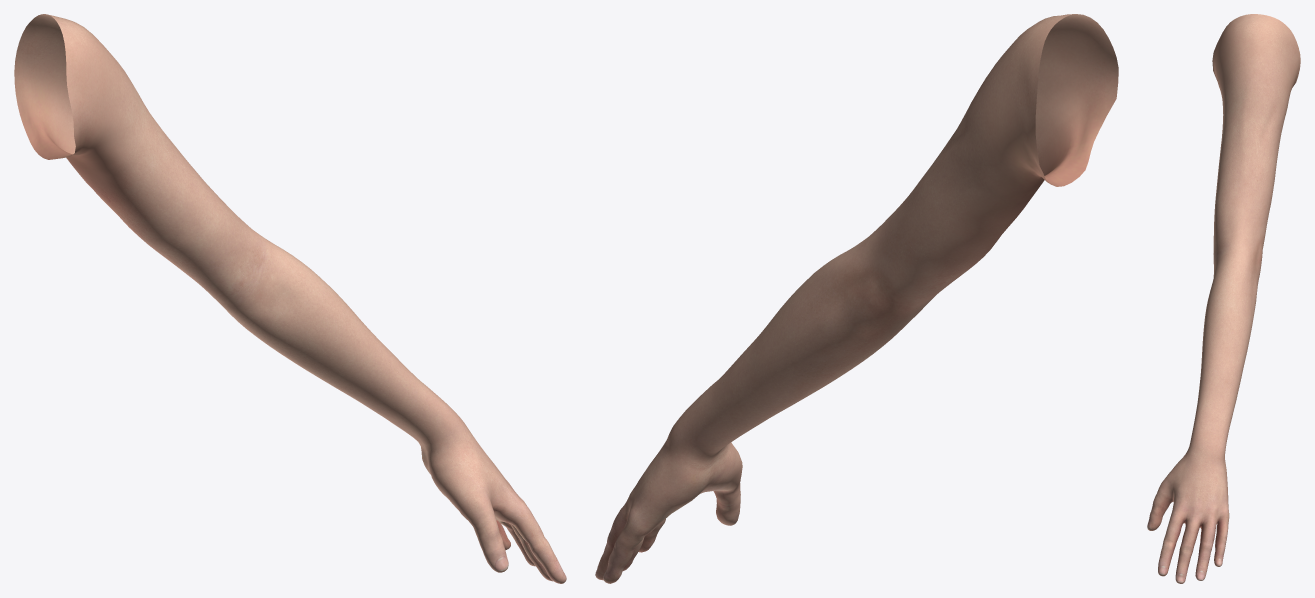
File: BrazoIzquierdo.obj
The picture shows the model from 3 angles, left to right: view 1: azimuth 30°, elevation 25°; view 2: azimuth 150°, elevation 25°; view 3: azimuth 270°, elevation 25°; orthographic projection. The views are drawn at different scales.
Visible parts, largest first — view 1: BrazoIzquierdo_body.003; view 2: BrazoIzquierdo_body.003; view 3: BrazoIzquierdo_body.003.
Boxes of the visible parts, x1=… form: BrazoIzquierdo_body.003: x1=14, y1=14, x2=566, y2=583; BrazoIzquierdo_body.003: x1=595, y1=14, x2=1118, y2=583; BrazoIzquierdo_body.003: x1=1147, y1=14, x2=1300, y2=583.
Bounding box in the file's own units: 0.4638 × 0.6016 × 0.1975.
